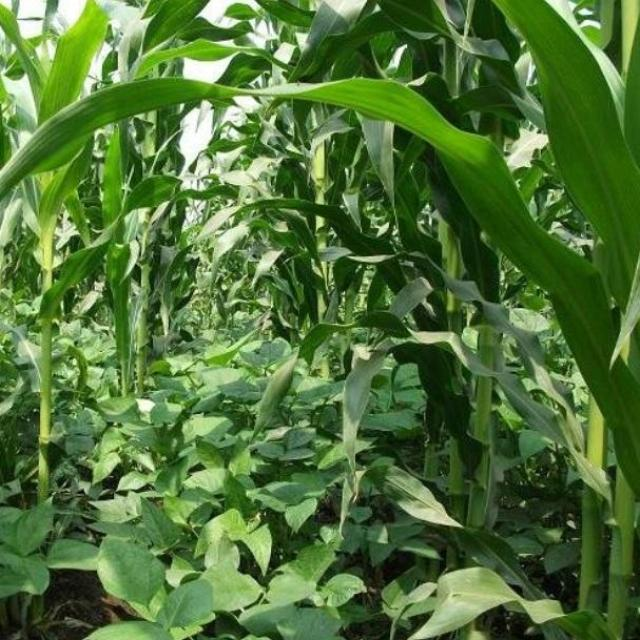row: (0, 319, 567, 640)
